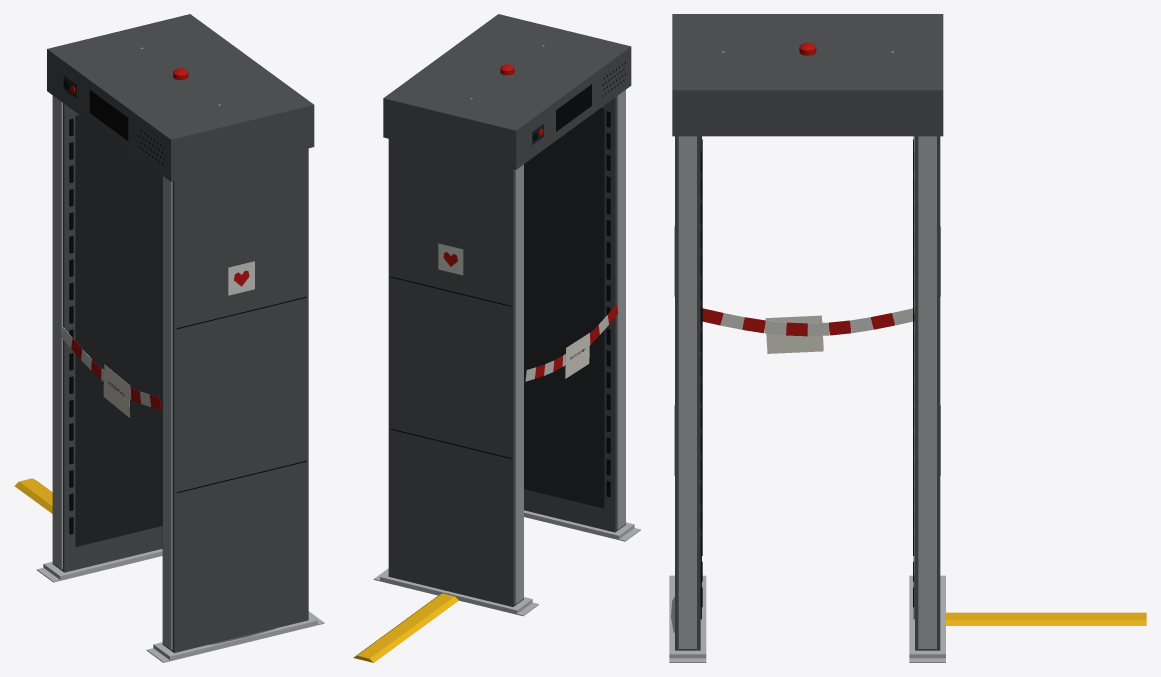
Rendered from security_gate.glb.
3 views of the same model, side by side, from view 1: azimuth 30°, elevation 25°; view 2: azimuth 150°, elevation 25°; view 3: azimuth 270°, elevation 25° (orthographic). The views are drawn at different scales.
Visible parts, largest first — view 1: sonde_0, sonde_2, sonde_4, sonde_1, sonde_3, sonde_6, sonde_7, sonde_10, sonde_11, sonde_5; view 2: sonde_0, sonde_2, sonde_4, sonde_1, sonde_3, sonde_11, sonde_6, sonde_7, sonde_10, sonde_5; view 3: sonde_0, sonde_4, sonde_11, sonde_1, sonde_3, sonde_7, sonde_6, sonde_10.
Boxes of the visible parts, box(x1,y1,x2,y2) form: sonde_0: box(47, 14, 314, 652); sonde_2: box(63, 75, 162, 546); sonde_4: box(53, 96, 172, 649); sonde_1: box(36, 549, 324, 662); sonde_3: box(69, 90, 128, 534); sonde_6: box(61, 261, 254, 406); sonde_7: box(70, 67, 249, 409); sonde_10: box(103, 364, 130, 417); sonde_11: box(14, 478, 52, 513); sonde_5: box(139, 130, 306, 493); sonde_0: box(383, 14, 631, 606); sonde_2: box(524, 107, 604, 508); sonde_4: box(514, 90, 625, 604); sonde_1: box(373, 510, 640, 616); sonde_3: box(556, 84, 610, 497); sonde_11: box(353, 593, 458, 662); sonde_6: box(438, 243, 608, 381); sonde_7: box(443, 63, 618, 378); sonde_10: box(565, 333, 589, 378); sonde_5: box(390, 62, 625, 458); sonde_0: box(672, 14, 943, 650); sonde_4: box(678, 136, 936, 648); sonde_11: box(946, 612, 1146, 625); sonde_1: box(669, 575, 945, 662); sonde_3: box(700, 139, 914, 607); sonde_7: box(702, 42, 894, 336); sonde_6: box(720, 308, 914, 336); sonde_10: box(765, 315, 823, 353).
Size of the model in its own units: 0.72 by 2.26 by 1.69.
